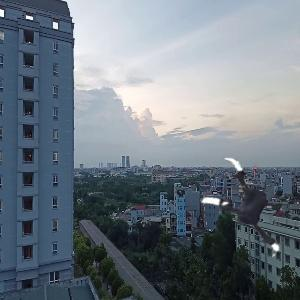drone: (186, 153, 299, 266)
